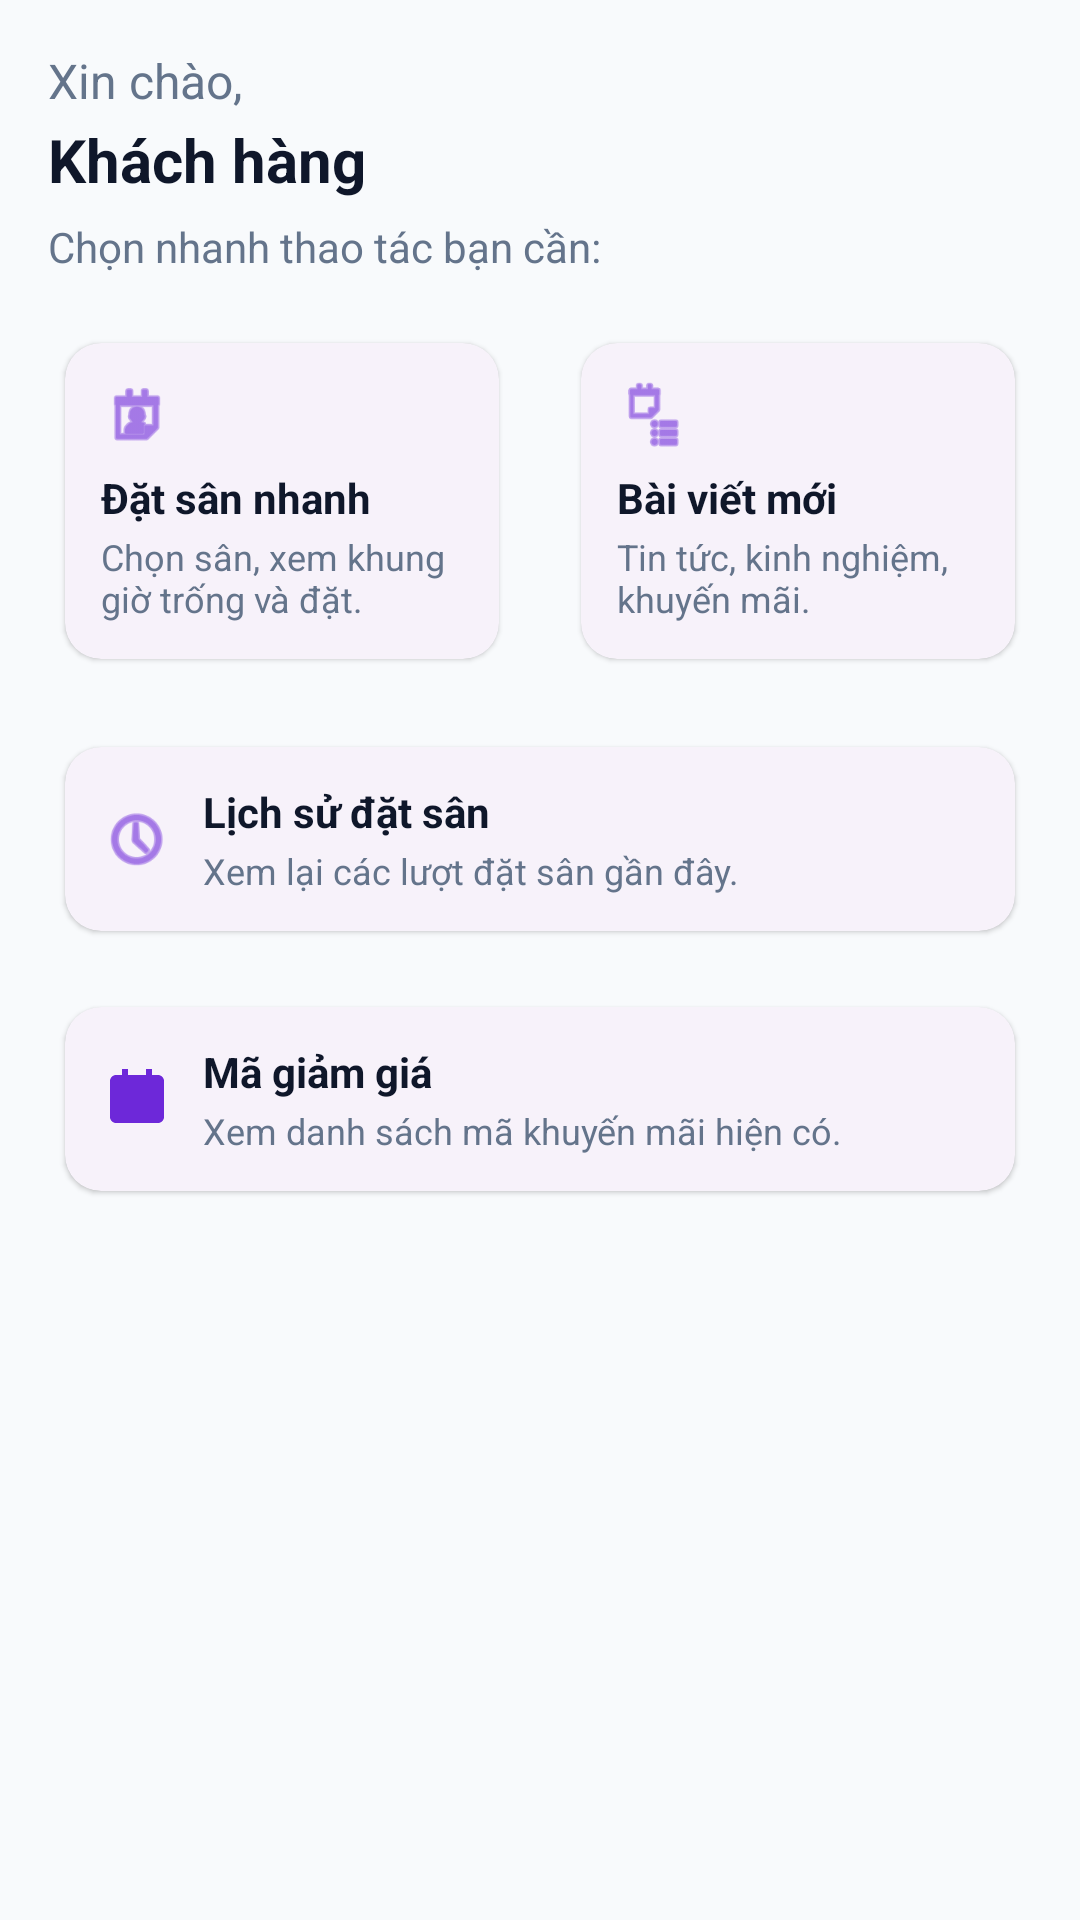

Icons on this 1080px×1920px Android screen, each with the point to tap as (x=x, y=y):
agenda: (x=653, y=415)
recent history: (x=137, y=839)
